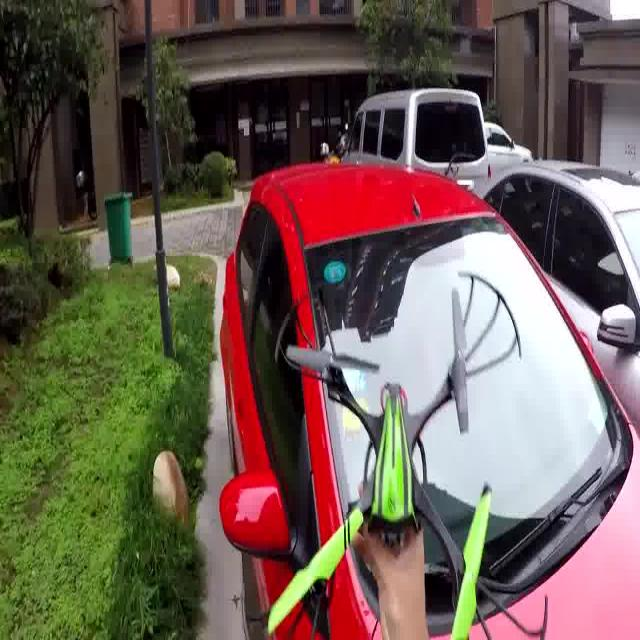drones: (235, 266, 554, 640)
